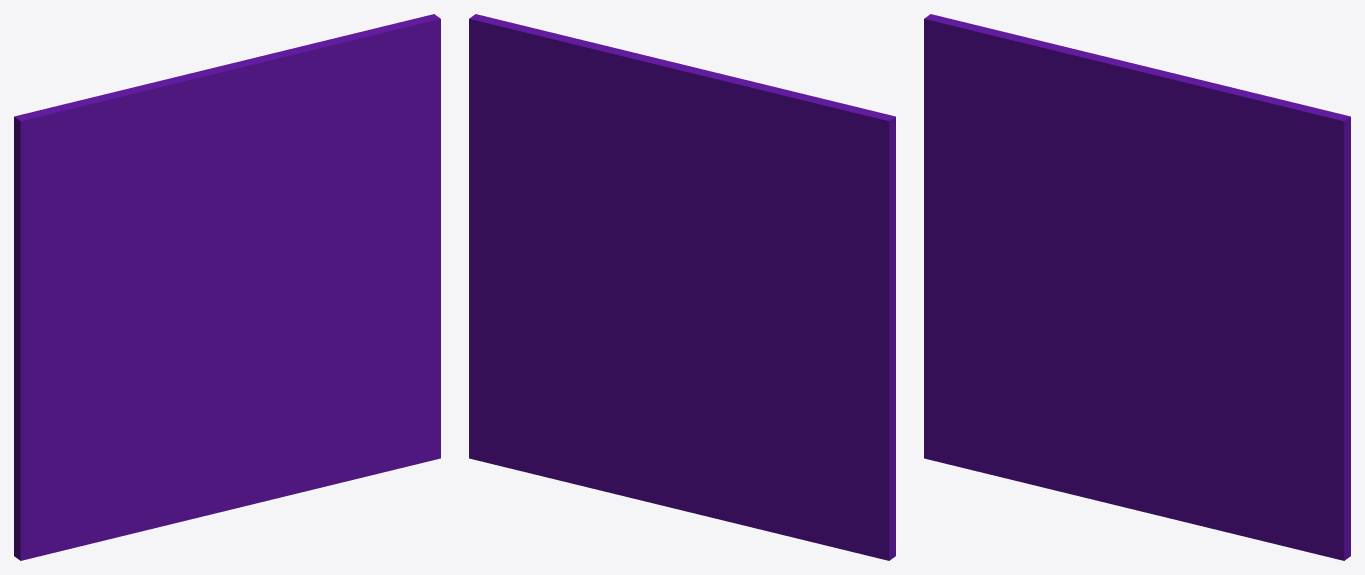
Rendered from MemorialFrame_3.007_chunks.fbx.
3 views of the same model, side by side, from view 1: azimuth 30°, elevation 25°; view 2: azimuth 150°, elevation 25°; view 3: azimuth 330°, elevation 25° (orthographic).
Parts seen in each view (by area): view 1: MemorialFrame_3.007_0, MemorialFrame_3.007_4, MemorialFrame_3.007_10, MemorialFrame_3.007_5, MemorialFrame_3.007_8, MemorialFrame_3.007_7, MemorialFrame_3.007_3, MemorialFrame_3.007_1, MemorialFrame_3.007_15, MemorialFrame_3.007_18, MemorialFrame_3.007_16, MemorialFrame_3.007_11 (+6 smaller); view 2: MemorialFrame_3.007_1, MemorialFrame_3.007_10, MemorialFrame_3.007_4, MemorialFrame_3.007_0, MemorialFrame_3.007_5, MemorialFrame_3.007_8, MemorialFrame_3.007_3, MemorialFrame_3.007_6, MemorialFrame_3.007_15, MemorialFrame_3.007_16, MemorialFrame_3.007_7, MemorialFrame_3.007_11 (+5 smaller); view 3: MemorialFrame_3.007_0, MemorialFrame_3.007_4, MemorialFrame_3.007_10, MemorialFrame_3.007_5, MemorialFrame_3.007_8, MemorialFrame_3.007_7, MemorialFrame_3.007_3, MemorialFrame_3.007_1, MemorialFrame_3.007_6, MemorialFrame_3.007_15, MemorialFrame_3.007_18, MemorialFrame_3.007_16 (+6 smaller).
Part boxes in pixels (box(x1,y1,x2,y2)): MemorialFrame_3.007_0: box(14, 277, 235, 560); MemorialFrame_3.007_4: box(204, 356, 440, 515); MemorialFrame_3.007_10: box(299, 41, 440, 260); MemorialFrame_3.007_5: box(146, 293, 290, 530); MemorialFrame_3.007_8: box(113, 113, 282, 289); MemorialFrame_3.007_7: box(235, 225, 440, 364); MemorialFrame_3.007_3: box(25, 94, 180, 246); MemorialFrame_3.007_1: box(14, 267, 207, 481); MemorialFrame_3.007_15: box(105, 61, 261, 156); MemorialFrame_3.007_18: box(240, 14, 440, 104); MemorialFrame_3.007_16: box(268, 41, 439, 182); MemorialFrame_3.007_11: box(14, 213, 61, 419); MemorialFrame_3.007_1: box(676, 250, 895, 485); MemorialFrame_3.007_10: box(469, 34, 620, 264); MemorialFrame_3.007_4: box(469, 369, 699, 514); MemorialFrame_3.007_0: box(699, 329, 895, 560); MemorialFrame_3.007_5: box(616, 285, 775, 533); MemorialFrame_3.007_8: box(618, 110, 789, 286); MemorialFrame_3.007_3: box(713, 96, 879, 255); MemorialFrame_3.007_6: box(469, 222, 617, 381); MemorialFrame_3.007_15: box(639, 63, 810, 158); MemorialFrame_3.007_16: box(472, 36, 657, 179); MemorialFrame_3.007_7: box(477, 224, 669, 352); MemorialFrame_3.007_11: box(848, 213, 895, 414); MemorialFrame_3.007_0: box(924, 271, 1139, 488); MemorialFrame_3.007_4: box(1107, 394, 1350, 560); MemorialFrame_3.007_10: box(1202, 131, 1350, 327); MemorialFrame_3.007_5: box(1049, 295, 1194, 502); MemorialFrame_3.007_8: box(1016, 55, 1185, 297); MemorialFrame_3.007_7: box(1138, 292, 1349, 399); MemorialFrame_3.007_3: box(940, 16, 1083, 194); MemorialFrame_3.007_1: box(924, 211, 1111, 338); MemorialFrame_3.007_6: box(1222, 320, 1350, 479); MemorialFrame_3.007_15: box(1008, 36, 1165, 151); MemorialFrame_3.007_18: box(1144, 69, 1350, 143); MemorialFrame_3.007_16: box(1171, 127, 1343, 210).
Bounding box in the file's own units: 797 × 797 × 21.54.
